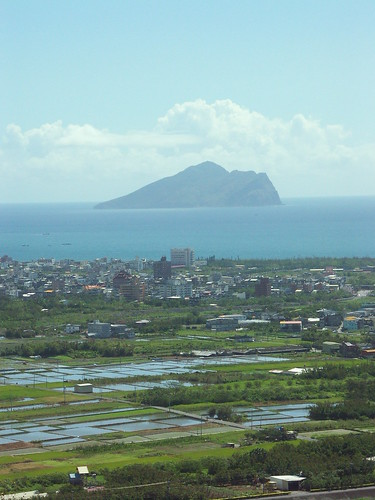turtleIsland: (92, 162, 280, 207)
